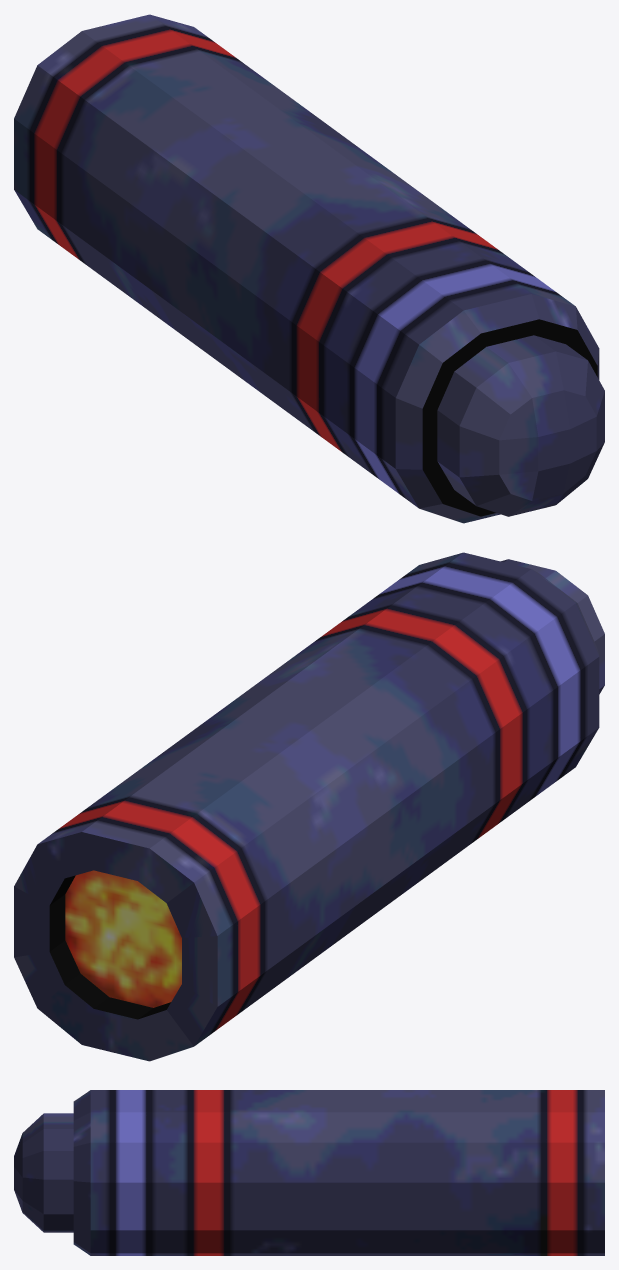
3 renders of one model, top to bottom at view 1: azimuth 30°, elevation 25°; view 2: azimuth 150°, elevation 25°; view 3: azimuth 270°, elevation 25°, orthographic. The views are drawn at different scales.
Parts seen in each view (by area): view 1: mesh_Mesh_missile; view 2: mesh_Mesh_missile; view 3: mesh_Mesh_missile.
Boxes of the visible parts, box(x1,y1,x2,y2) form: mesh_Mesh_missile: box(14, 14, 604, 523); mesh_Mesh_missile: box(14, 552, 604, 1061); mesh_Mesh_missile: box(14, 1090, 604, 1255).
Bounding box in the file's own units: 0.1925 × 0.1925 × 0.7187.
Materials: 1 (1 with a texture image).
